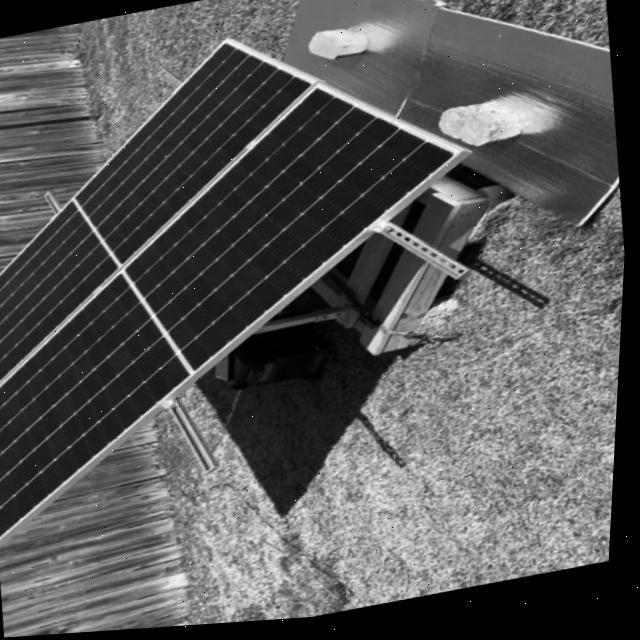Normal Solar Panel: (0, 1, 508, 547)
